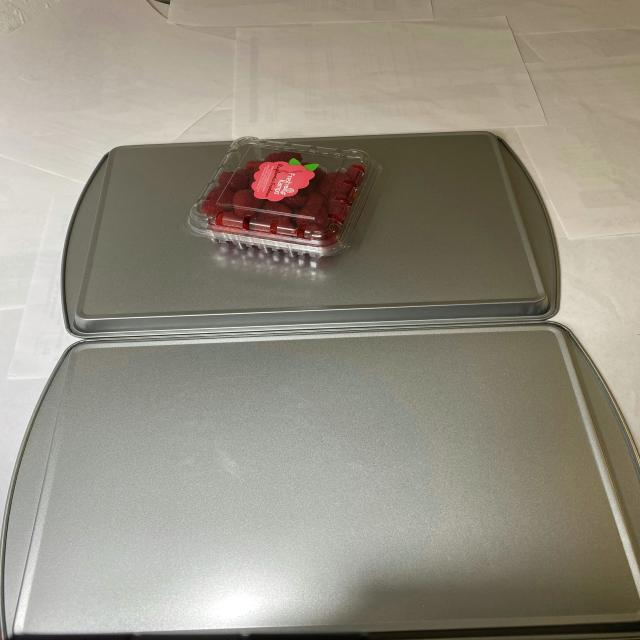raspberries: (199, 153, 361, 258)
